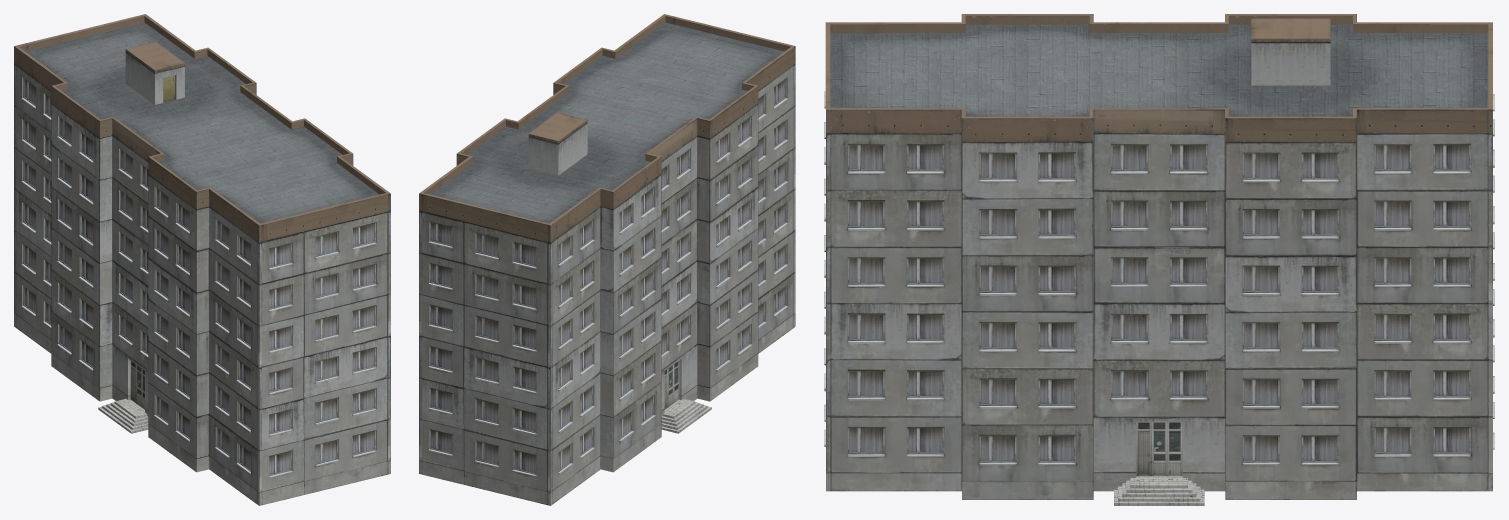
The model's file is building-1.glb.
3 renders of one model, left to right at view 1: azimuth 30°, elevation 25°; view 2: azimuth 150°, elevation 25°; view 3: azimuth 270°, elevation 25°, orthographic. The views are drawn at different scales.
Visible parts, largest first — view 1: BUILDING_lambert1_0; view 2: BUILDING_lambert1_0; view 3: BUILDING_lambert1_0.
Part boxes in pixels (x1,y1,x2,y2): BUILDING_lambert1_0: (14, 14, 390, 505); BUILDING_lambert1_0: (419, 14, 795, 505); BUILDING_lambert1_0: (824, 14, 1494, 505).
Size of the model in its own units: 0.6832 by 1.15 by 1.66.
Materials: 1 (1 with a texture image).
